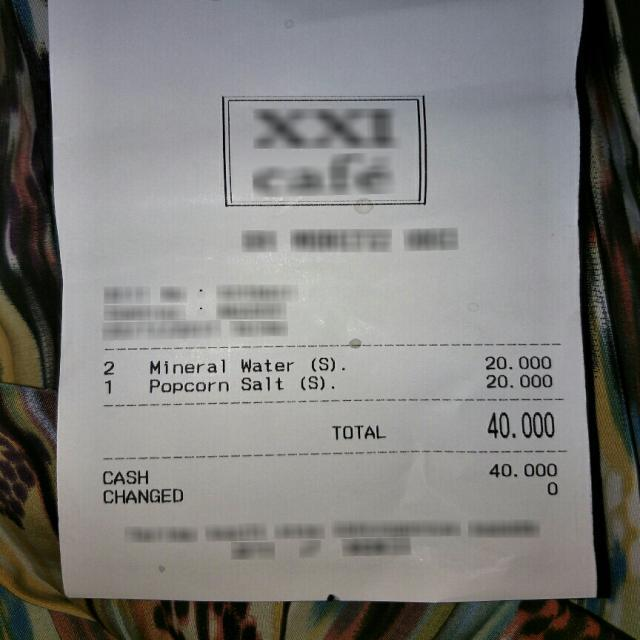kertas: (50, 0, 598, 608)
